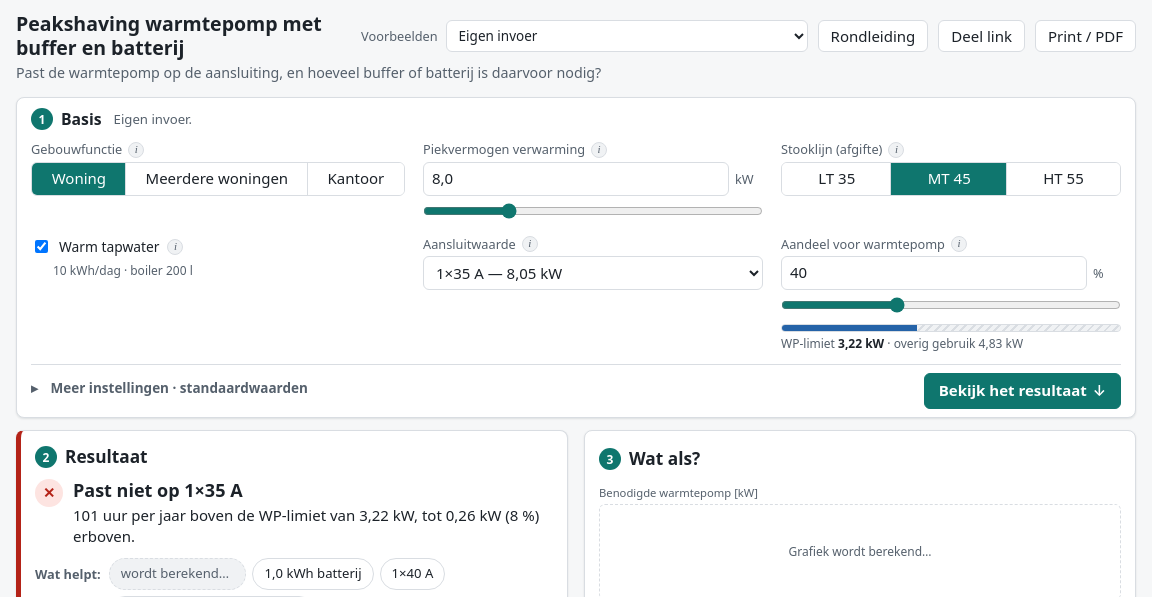
Test: invoerblok Gebouw: meerdere woningen › kantoor: geen aantal woningen en geen hint, ook niet boven 20 kW
Click the button "Kantoor" at (355, 178), box [307,162,404,195]
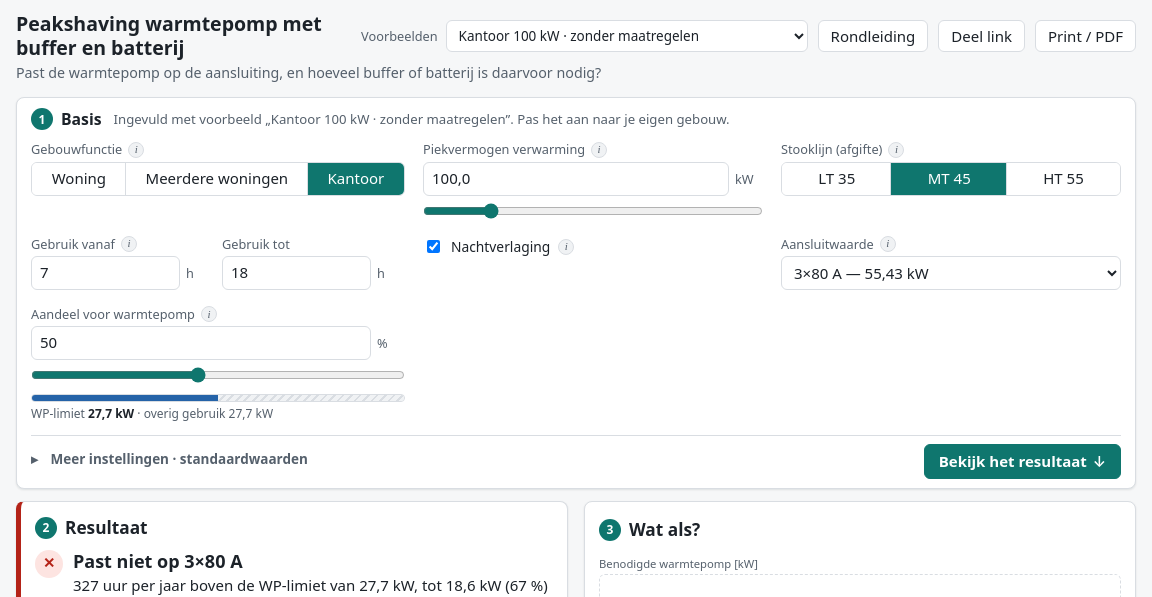
Result: the field labelled "Piekvermogen verwarming" holds "100,0" at [423,162,729,196]
